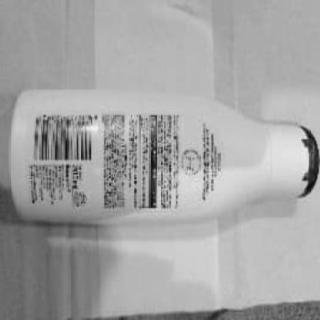objects: (7, 93, 319, 225)
